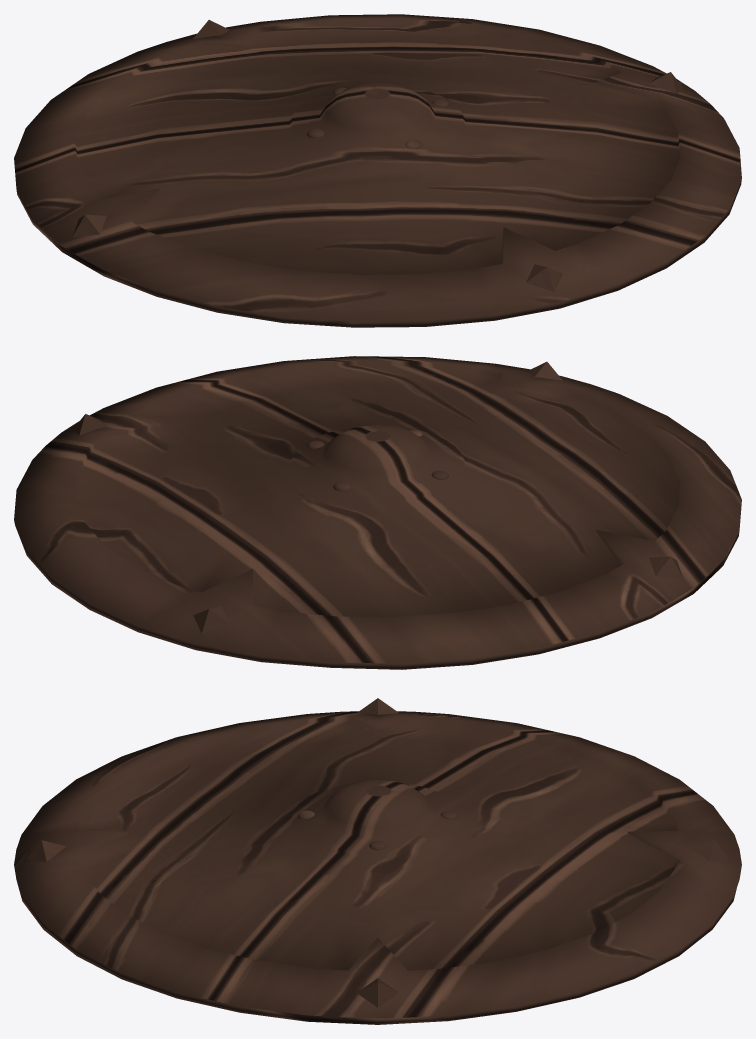
The model's file is ShieldHandPaintedTest.fbx.
3 renders of one model, top to bottom at view 1: azimuth 30°, elevation 25°; view 2: azimuth 150°, elevation 25°; view 3: azimuth 270°, elevation 25°, orthographic.
Parts seen in each view (by area): view 1: Retopology; view 2: Retopology; view 3: Retopology.
Boxes of the visible parts, x1,y1,x2,y2 form: Retopology: (14,14,741,327); Retopology: (14,356,741,669); Retopology: (14,698,741,1024).
Bounding box in the file's own units: 5.98 × 0.8638 × 5.98.
